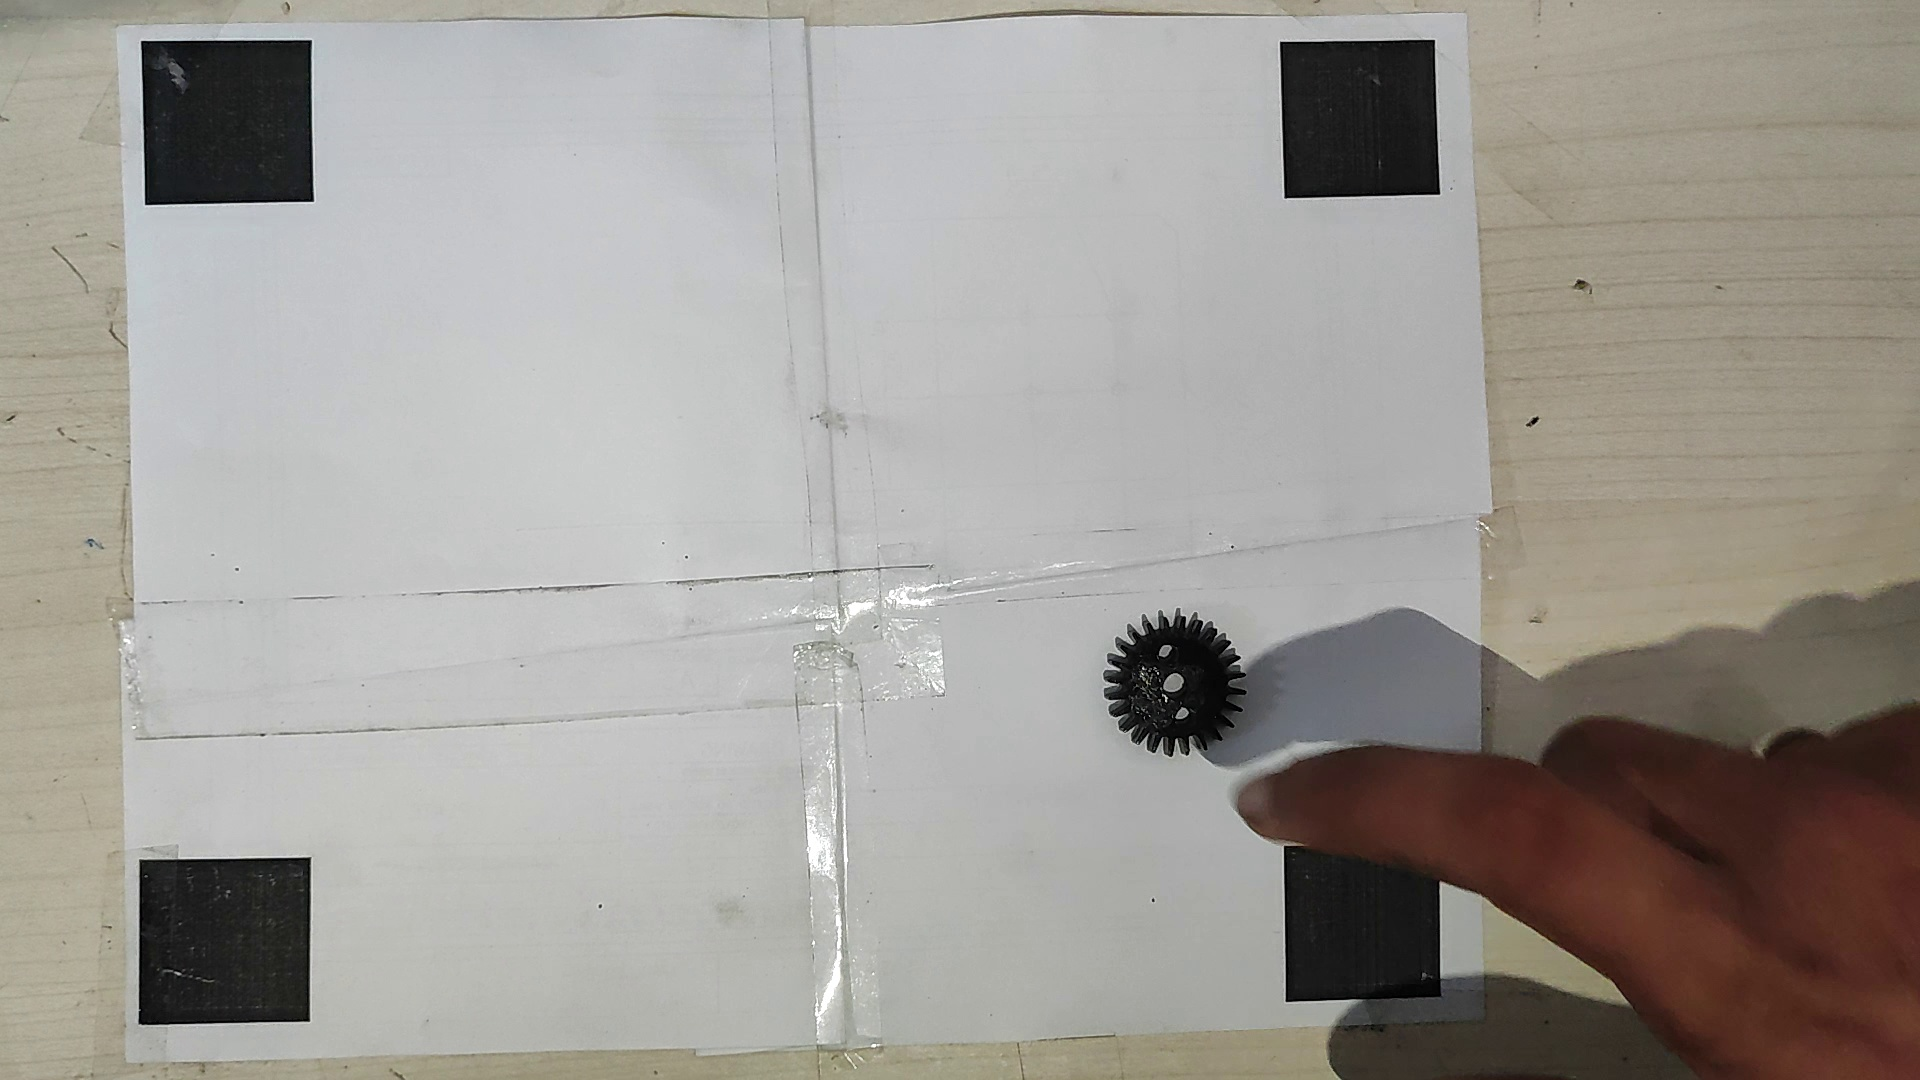Gear: (1098, 604, 1247, 757)
